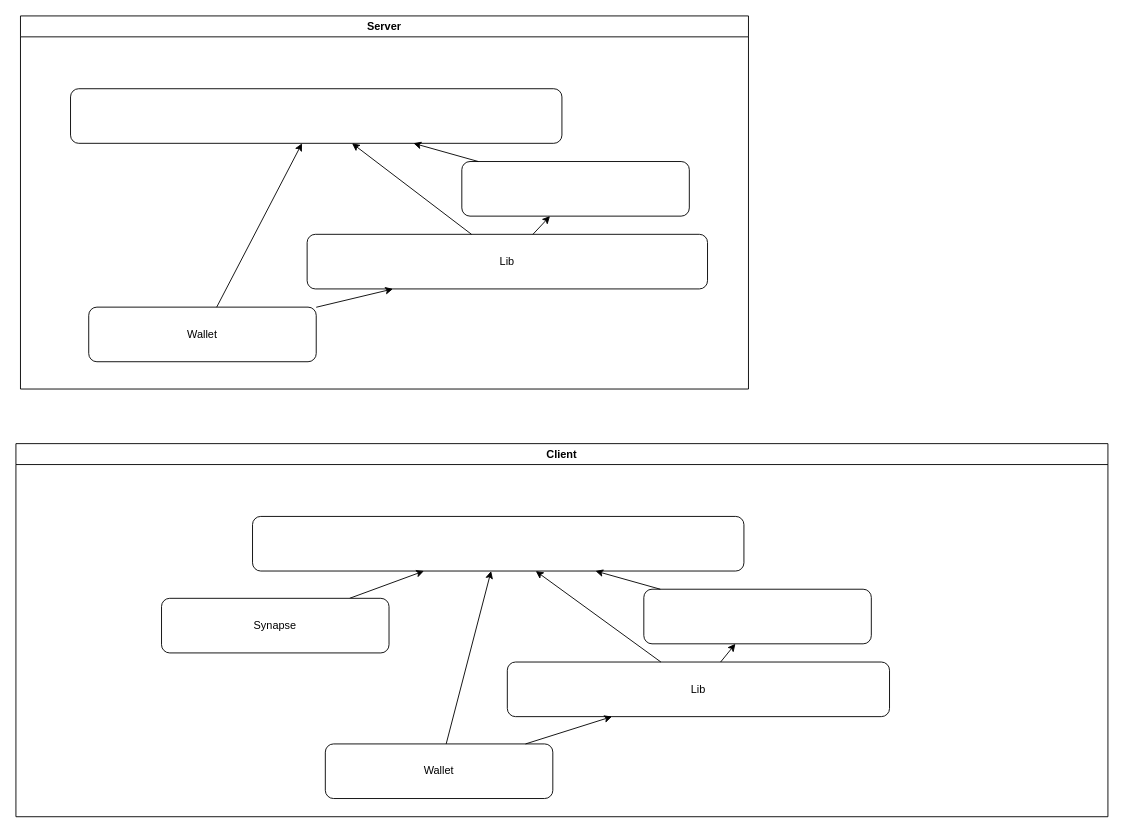
Image size: 1124x833. Some labels were removed from this diagram. Each missing label, with the centre of its shape:
"Central" belongs at point 316,115.
"Engine" belongs at point 757,616.
"Neuron" belongs at point 498,543.
